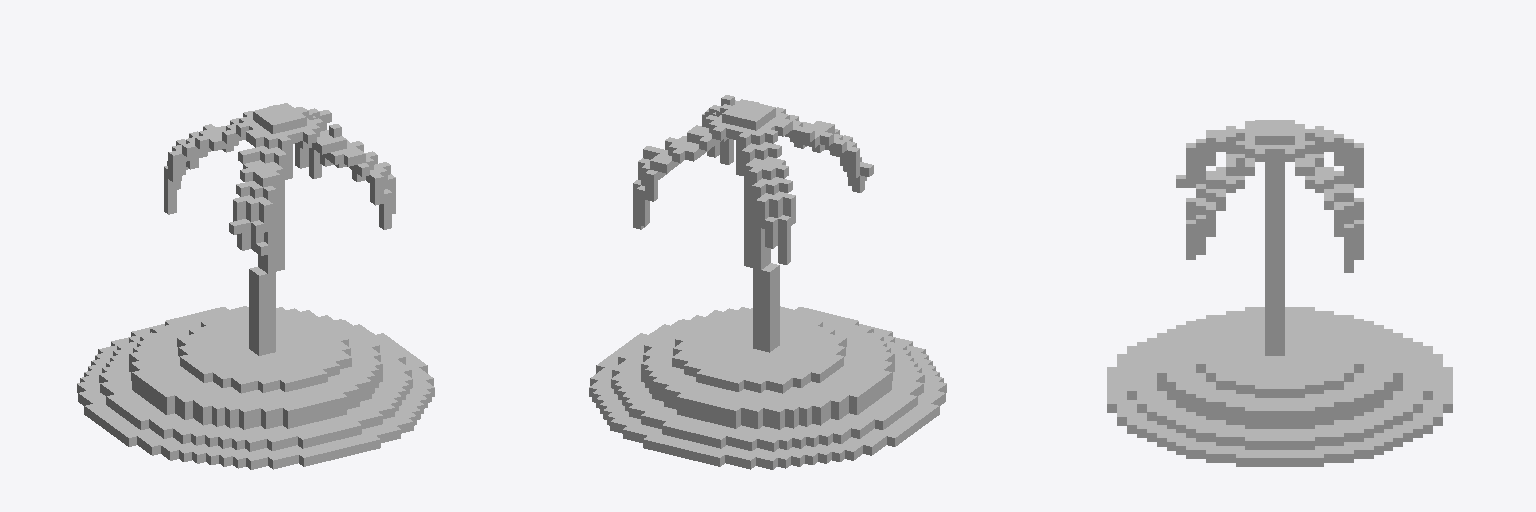
File: Island.obj
The picture shows the model from 3 angles: view 1: azimuth 30°, elevation 25°; view 2: azimuth 150°, elevation 25°; view 3: azimuth 270°, elevation 25°; orthographic projection.
Size of the model in its own units: 35 by 31 by 35.